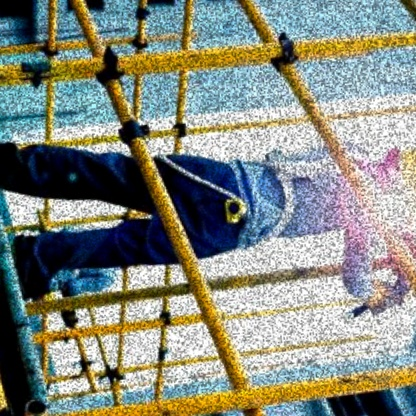yellow: (390, 135, 416, 231)
